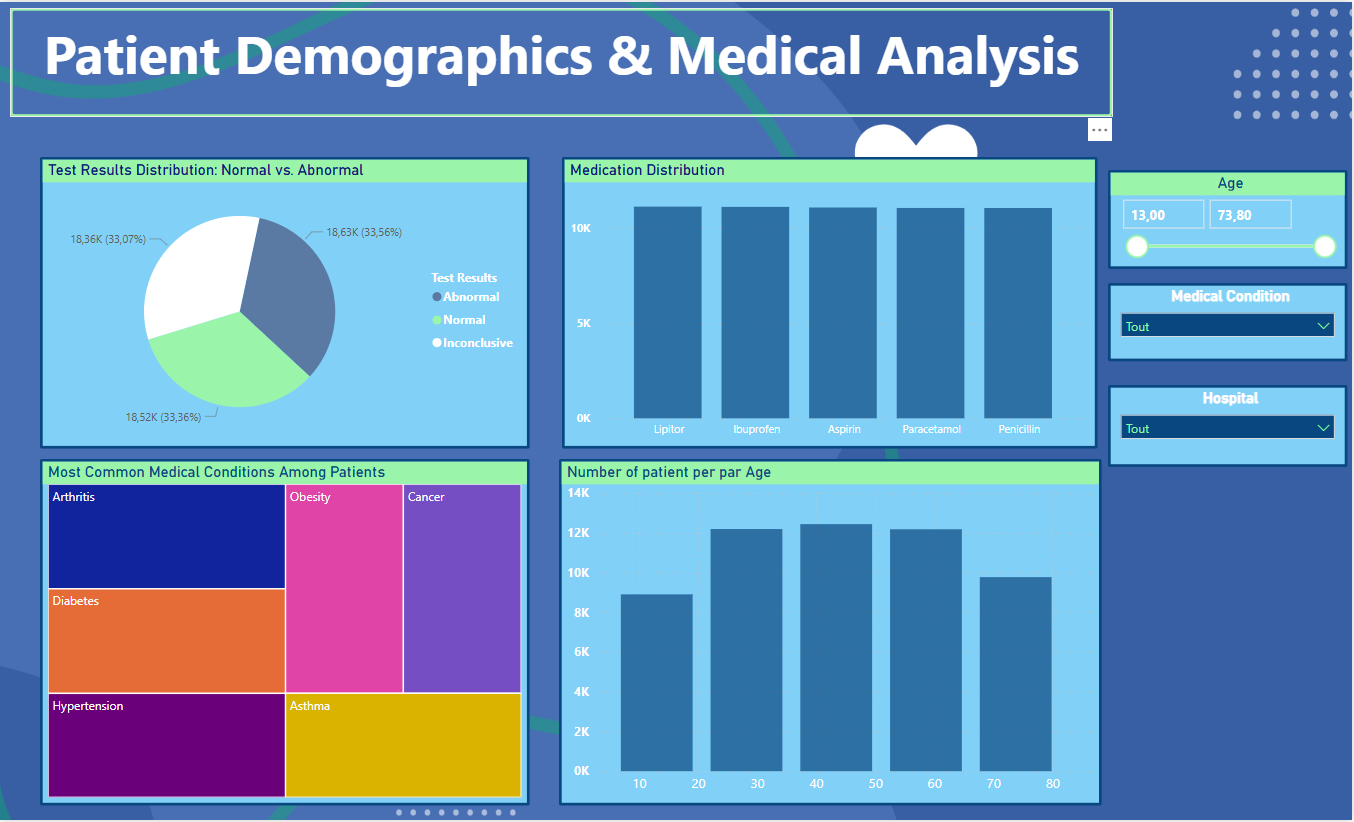

Layout of this report page (visuals, bound fields, positions):
{"tool":"powerbi","page":{"name":"Patient","canvas":[1503,909],"ordinal":3},"visuals":[{"type":"textbox","box":[11.4,6.9,1225.5,121.1],"z":0},{"type":"pieChart","title":"Test Results Distribution: Normal vs. Abnormal","fields":{"Category":["healthcare_dataset.Test_Results"],"Y":["CountNonNull(healthcare_dataset.Test_Results)"]},"box":[44.5,172.5,543.6,324.4],"z":1000},{"type":"treemap","title":"Most Common Medical Conditions Among Patients","fields":{"Group":["healthcare_dataset.Medical_Condition"],"Values":["CountNonNull(healthcare_dataset.Name)"]},"box":[44.5,508.2,543.6,384.9],"z":2000},{"type":"clusteredColumnChart","title":"Medication Distribution","fields":{"Category":["healthcare_dataset.Medication"],"Y":["CountNonNull(healthcare_dataset.Name)"]},"box":[624.7,172.5,595,324.4],"z":3000},{"type":"columnChart","title":"Number of patient per par Age","fields":{"Y":["CountNonNull(healthcare_dataset.Name)"],"Category":["healthcare_dataset.Age (compartiments)"]},"box":[621.3,508.2,603,384.9],"z":4000},{"type":"slicer","title":"Medical Condition","fields":{"Values":["healthcare_dataset.Medical_Condition"]},"box":[1231.2,311.8,266.1,86.8],"z":5000},{"type":"slicer","title":"Hospital","fields":{"Values":["healthcare_dataset.Hospital"]},"box":[1231.2,426,266.1,91.4],"z":6000},{"type":"slicer","title":"Age","fields":{"Values":["healthcare_dataset.Age (compartiments)"]},"box":[1231.2,186.2,266.1,109.6],"z":7000}]}

Visuals, with their boxes in screenshot pixels (x1, y1, x2, y2), scaled from the page's 1503x909 canvas onto the 1354x822 screenshot:
textbox: rect(10, 6, 1114, 116)
"Test Results Distribution: Normal vs. Abnormal" pieChart: rect(40, 156, 530, 449)
"Most Common Medical Conditions Among Patients" treemap: rect(40, 460, 530, 808)
"Medication Distribution" clusteredColumnChart: rect(563, 156, 1099, 449)
"Number of patient per par Age" columnChart: rect(560, 460, 1103, 808)
"Medical Condition" slicer: rect(1109, 282, 1349, 360)
"Hospital" slicer: rect(1109, 385, 1349, 468)
"Age" slicer: rect(1109, 168, 1349, 267)
